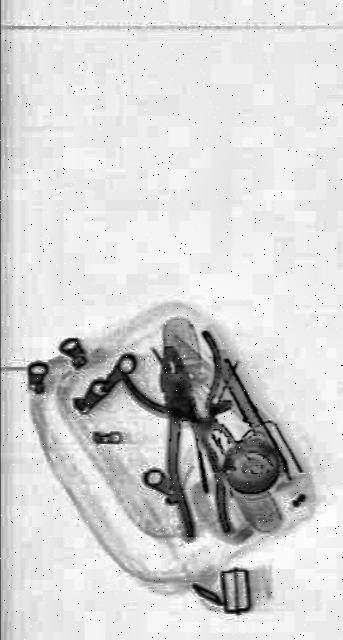Pliers: (117, 272, 266, 522), (144, 330, 232, 556)
